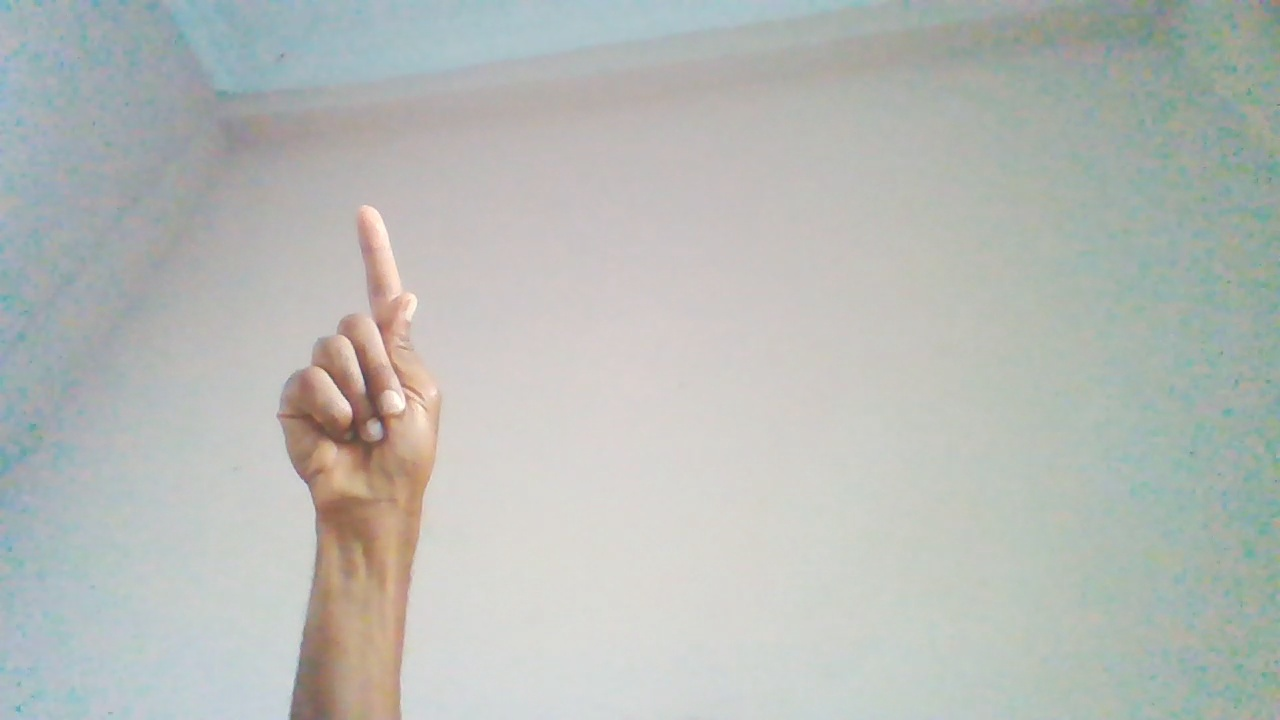ne: (281, 205, 450, 609)
